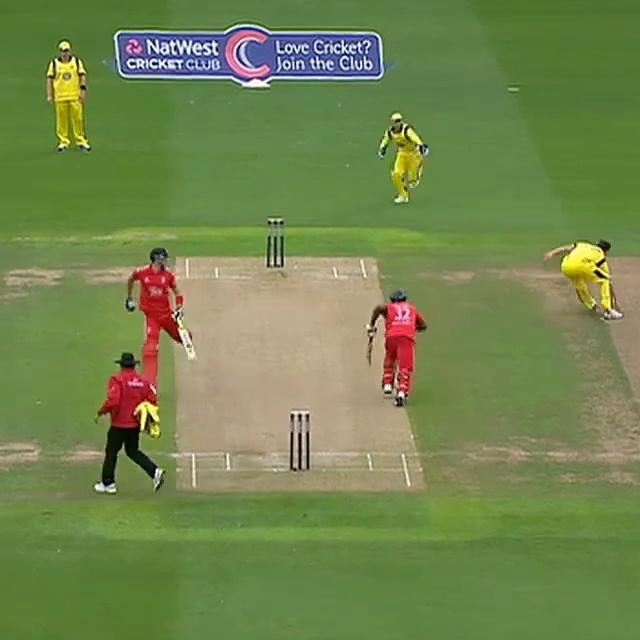umpire: (87, 347, 166, 498)
